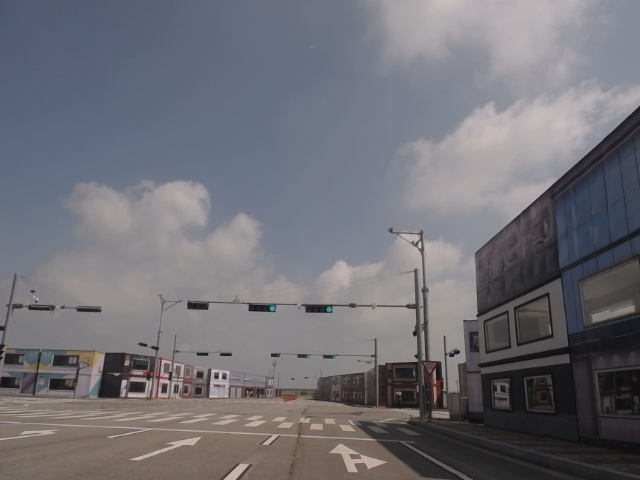straight_green_4: (247, 302, 277, 313), (305, 306, 332, 315)
